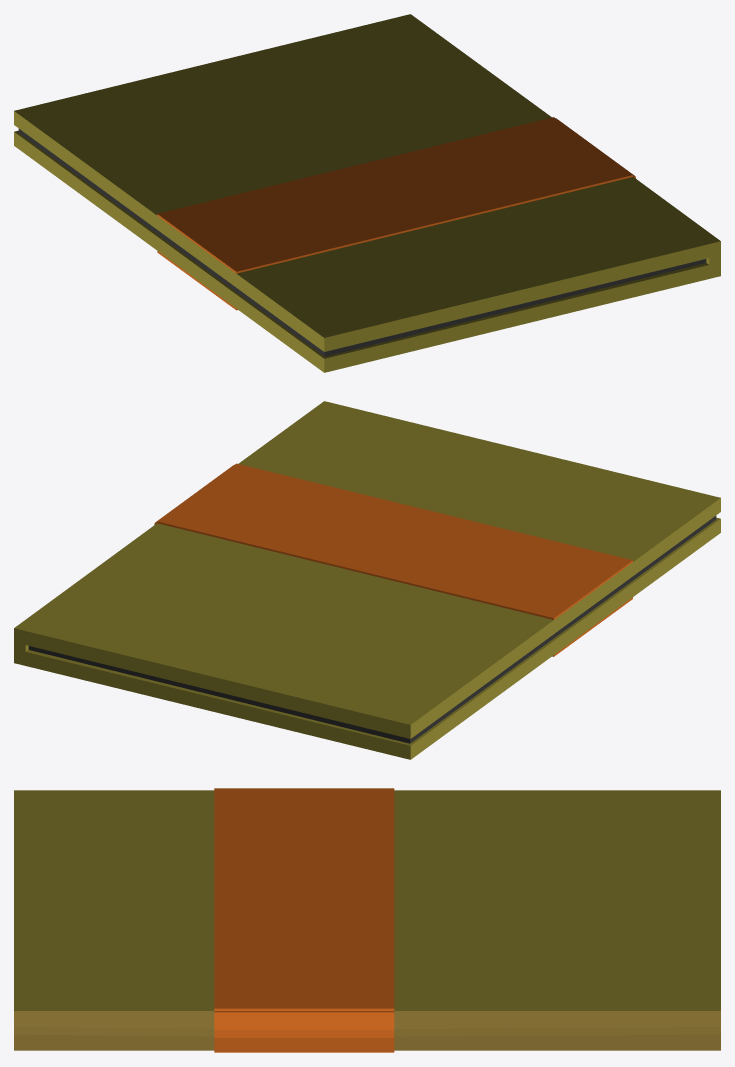
The model's file is Notebook 1.fbx.
3 renders of one model, top to bottom at view 1: azimuth 30°, elevation 25°; view 2: azimuth 150°, elevation 25°; view 3: azimuth 270°, elevation 25°, orthographic. The views are drawn at different scales.
Visible parts, largest first — view 1: Node 0; view 2: Node 0; view 3: Node 0.
Part boxes in pixels (x1,y1,x2,y2): Node 0: (14, 14, 720, 372); Node 0: (14, 401, 720, 759); Node 0: (14, 788, 720, 1052).
Size of the model in its own units: 0.4707 by 0.0324 by 0.3526.
